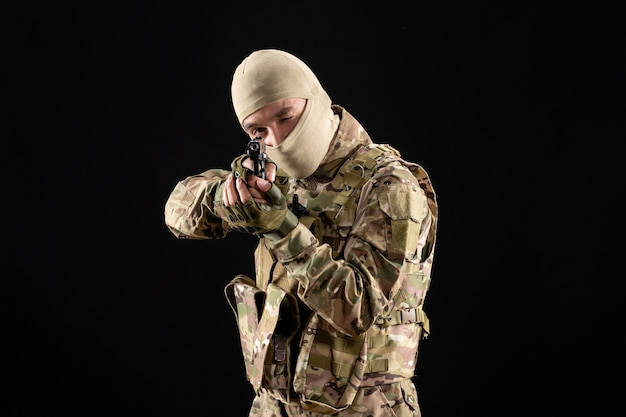gun: (248, 137, 269, 184)
